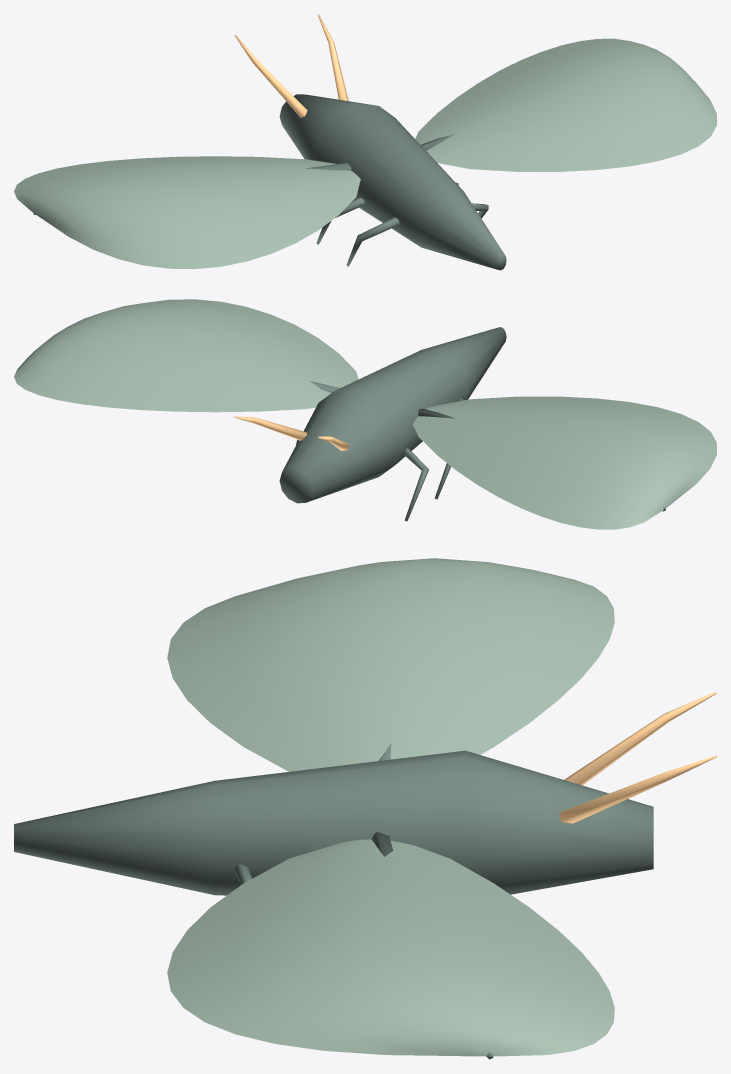
Rendered from shore_flier.glb.
3 views of the same model, one above another, from view 1: azimuth 30°, elevation 25°; view 2: azimuth 150°, elevation 25°; view 3: azimuth 270°, elevation 25° (orthographic). The views are drawn at different scales.
Parts seen in each view (by area): view 1: Wing_L_Geometry, Wing_R_Geometry, Body_Geometry; view 2: Wing_L_Geometry, Wing_R_Geometry, Body_Geometry; view 3: Wing_R_Geometry, Wing_L_Geometry, Body_Geometry.
Part boxes in pixels (box(x1,y1,x2,y2)): Wing_L_Geometry: box(14, 156, 360, 269); Wing_R_Geometry: box(415, 38, 716, 171); Body_Geometry: box(234, 14, 506, 270); Wing_L_Geometry: box(413, 396, 716, 529); Wing_R_Geometry: box(14, 299, 358, 412); Body_Geometry: box(234, 327, 506, 521); Wing_R_Geometry: box(167, 831, 614, 1059); Wing_L_Geometry: box(167, 558, 614, 771); Body_Geometry: box(14, 691, 716, 895).
Bounding box in the file's own units: 0.9126 × 0.182 × 0.5605.
